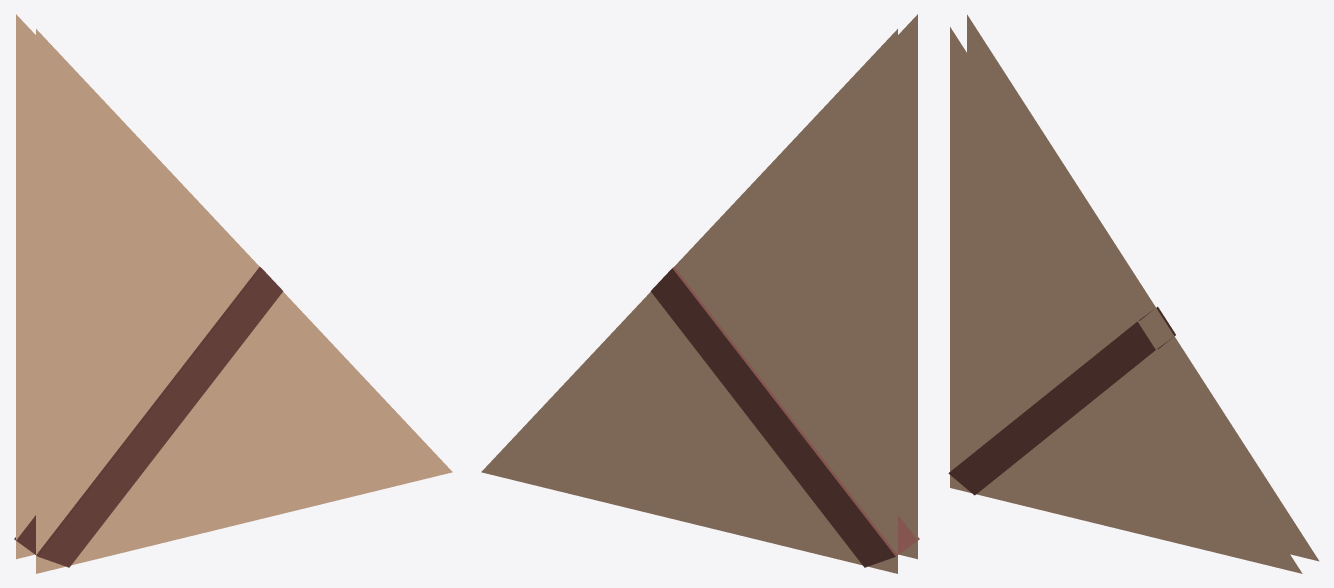
File: WallAngle_Side_1.fbx
3 renders of one model, left to right at view 1: azimuth 30°, elevation 25°; view 2: azimuth 150°, elevation 25°; view 3: azimuth 330°, elevation 25°, orthographic. The views are drawn at different scales.
Parts seen in each view (by area): view 1: WallAngle_Side_1; view 2: WallAngle_Side_1; view 3: WallAngle_Side_1.
Boxes of the visible parts, box(x1,y1,x2,y2) form: WallAngle_Side_1: box(14, 14, 452, 573); WallAngle_Side_1: box(481, 14, 919, 573); WallAngle_Side_1: box(948, 14, 1319, 573).
Size of the model in its own units: 2.4 by 0.24 by 3.
